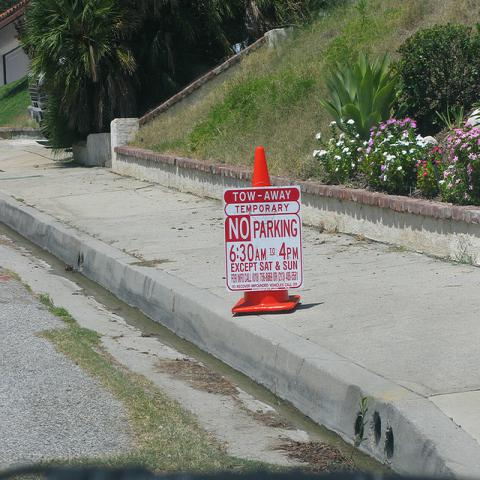car: (27, 72, 46, 139)
truck: (28, 74, 49, 140)
